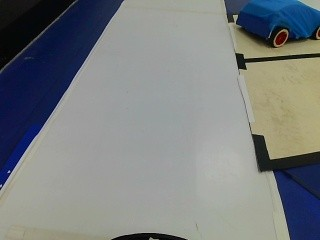car: (224, 0, 318, 50)
